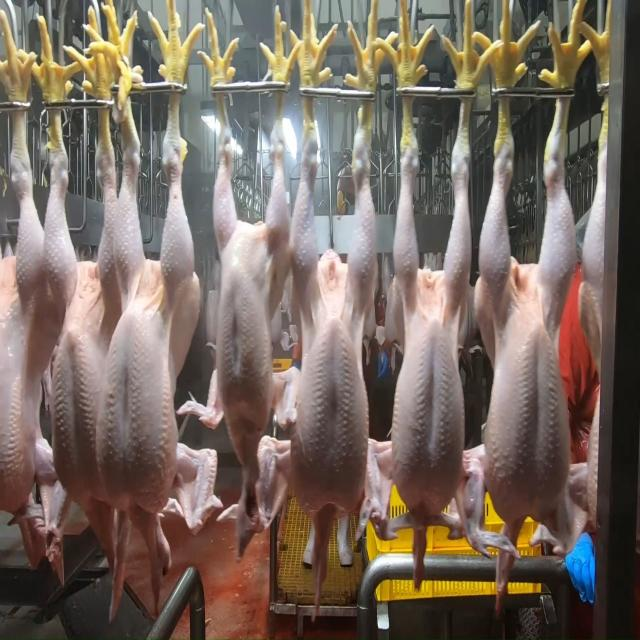chicken: (481, 128, 579, 522), (288, 126, 380, 529), (386, 112, 474, 520), (100, 143, 196, 513), (41, 136, 126, 512), (202, 148, 290, 442), (0, 151, 42, 511)
